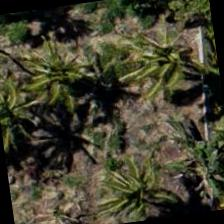Kelapa_Sawit: (9, 28, 111, 130), (111, 4, 212, 106), (85, 137, 186, 223), (0, 60, 75, 160)
